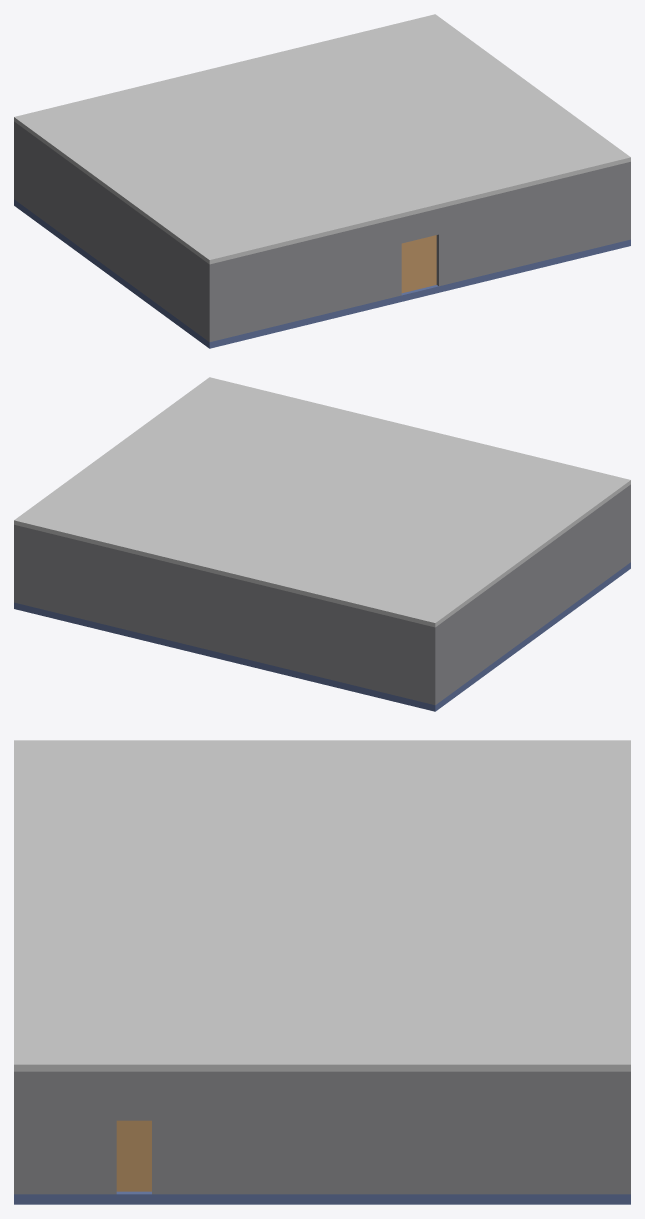
File: bookstore.glb
3 views of the same model, one above another, from view 1: azimuth 30°, elevation 25°; view 2: azimuth 150°, elevation 25°; view 3: azimuth 270°, elevation 25° (orthographic). The views are drawn at different scales.
Parts seen in each view (by area): view 1: Shop_Ceiling, Shop_Wall_S_1, Shop_Wall_S_3, Shop_Wall_W_1, Shop_Floor, Shop_Wall_S_2, DoorLeaf_wing_books_B, DoorLeaf_wing_books_A; view 2: Shop_Ceiling, Shop_Wall_N_1, Shop_Wall_W_1, Shop_Floor; view 3: Shop_Ceiling, Shop_Wall_E_1, Shop_Wall_E_3, Shop_Floor, DoorLeaf_bookstore_desk, Shop_Wall_E_2, Shop_Wall_N_1, Shop_Wall_S_3.
Boxes of the visible parts, box(x1,y1,x2,y2) form: Shop_Ceiling: box(14, 14, 630, 264); Shop_Wall_S_1: box(207, 217, 401, 342); Shop_Wall_S_3: box(436, 161, 630, 286); Shop_Wall_W_1: box(16, 123, 207, 340); Shop_Floor: box(14, 199, 630, 348); Shop_Wall_S_2: box(401, 208, 438, 243); DoorLeaf_wing_books_B: box(418, 235, 436, 289); DoorLeaf_wing_books_A: box(401, 239, 418, 293); Shop_Ceiling: box(14, 377, 630, 627); Shop_Wall_N_1: box(14, 524, 437, 705); Shop_Wall_W_1: box(437, 486, 628, 703); Shop_Floor: box(14, 562, 630, 711); Shop_Ceiling: box(14, 740, 630, 1071); Shop_Wall_E_1: box(152, 1071, 623, 1194); Shop_Wall_E_3: box(21, 1071, 116, 1194); Shop_Floor: box(14, 1191, 630, 1204); DoorLeaf_bookstore_desk: box(116, 1120, 151, 1191); Shop_Wall_E_2: box(116, 1071, 151, 1120); Shop_Wall_N_1: box(623, 1071, 630, 1194); Shop_Wall_S_3: box(14, 1071, 21, 1194).
Size of the model in its own units: 20.4 by 4.1 by 16.4.
